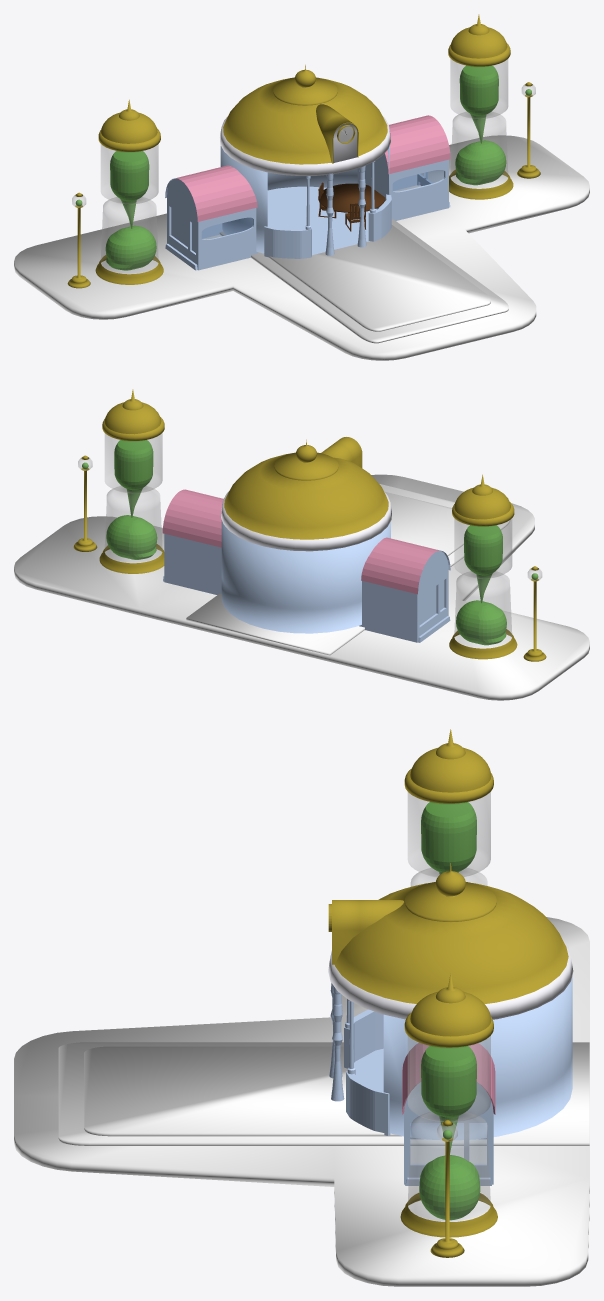
File: HYPERBOLICTC.gltf
The picture shows the model from 3 angles, top to bottom: view 1: azimuth 30°, elevation 25°; view 2: azimuth 150°, elevation 25°; view 3: azimuth 270°, elevation 25°; orthographic projection. The views are drawn at different scales.
Parts seen in each view (by area): view 1: Plane, Plane.002, Plane.005, Plane.003, Plane.001, Cylinder.002, Cylinder.001, Plane.004, Sphere.001, Sphere.002, Cube, Circle.001 (+6 smaller); view 2: Plane, Plane.002, Plane.003, Plane.001, Cylinder.002, Cylinder.001, Sphere.001, Sphere.002, Plane.004, Plane.005, Circle.001, Circle.005 (+1 smaller); view 3: Plane, Plane.002, Plane.005, Plane.001, Plane.004, Plane.003, Sphere.001, Cylinder.001, Sphere.002, Circle.001, Cube.001, Cube (+2 smaller).
Boxes of the visible parts, bbox=[...] form: Plane: bbox=[14, 135, 589, 360]; Plane.002: bbox=[219, 64, 390, 255]; Plane.005: bbox=[263, 225, 490, 331]; Plane.003: bbox=[95, 99, 163, 284]; Plane.001: bbox=[448, 14, 513, 199]; Cylinder.002: bbox=[165, 165, 257, 270]; Cylinder.001: bbox=[357, 115, 450, 220]; Plane.004: bbox=[219, 219, 508, 343]; Sphere.001: bbox=[455, 65, 506, 185]; Sphere.002: bbox=[105, 151, 156, 270]; Cube: bbox=[264, 225, 311, 258]; Circle.001: bbox=[316, 104, 358, 163]; Plane: bbox=[14, 474, 589, 700]; Plane.002: bbox=[221, 439, 391, 633]; Plane.003: bbox=[449, 474, 517, 659]; Plane.001: bbox=[99, 389, 164, 573]; Cylinder.002: bbox=[359, 537, 450, 642]; Cylinder.001: bbox=[162, 489, 223, 594]; Sphere.001: bbox=[106, 440, 157, 559]; Sphere.002: bbox=[456, 525, 506, 645]; Plane.004: bbox=[186, 484, 510, 655]; Plane.005: bbox=[384, 491, 469, 555]; Circle.001: bbox=[321, 437, 362, 467]; Circle.005: bbox=[523, 566, 546, 661]; Plane: bbox=[14, 917, 589, 1286]; Plane.002: bbox=[328, 863, 573, 1140]; Plane.005: bbox=[84, 1046, 401, 1136]; Plane.001: bbox=[400, 973, 497, 1237]; Plane.004: bbox=[58, 1042, 589, 1145]; Plane.003: bbox=[404, 729, 493, 886]; Sphere.001: bbox=[419, 1046, 480, 1220]; Cylinder.001: bbox=[402, 1043, 495, 1185]; Sphere.002: bbox=[421, 802, 476, 874]; Circle.001: bbox=[332, 900, 403, 964]; Cube.001: bbox=[346, 1071, 390, 1135]; Cube: bbox=[344, 1009, 383, 1068].
Bounding box in the file's own units: 9.15 × 2.98 × 6.15.
